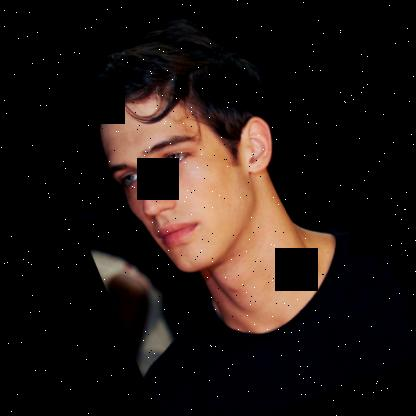Male: (83, 58, 311, 286)
